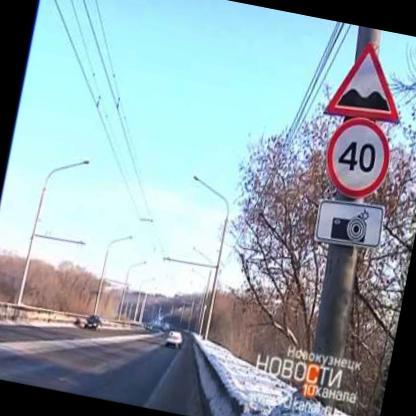road_sign: (325, 42, 398, 121), (326, 117, 389, 198), (314, 200, 383, 247)
